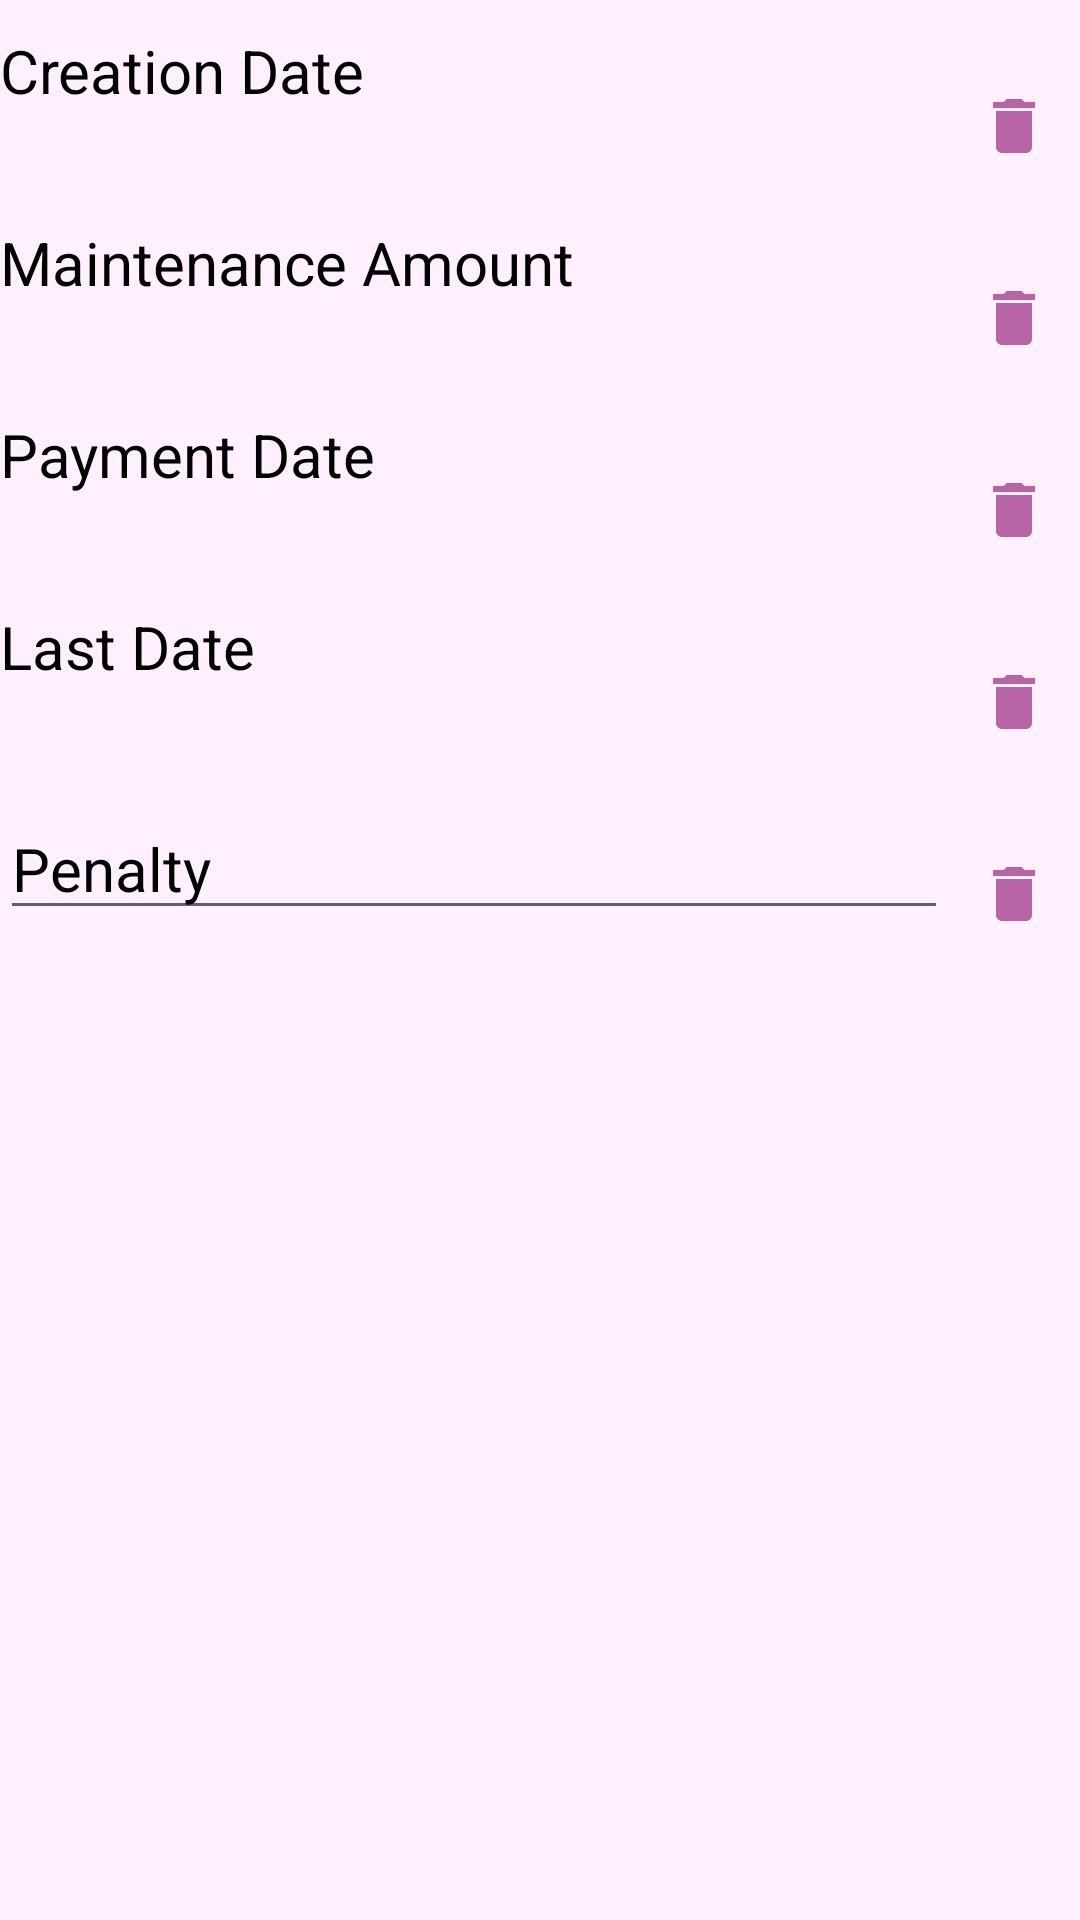

Icons on this 1080×1920 Android screen, each with the point to tap as (x=x, y=y):
delete: (x=1014, y=126), (x=1014, y=318), (x=1014, y=510), (x=1014, y=702), (x=1014, y=894)
